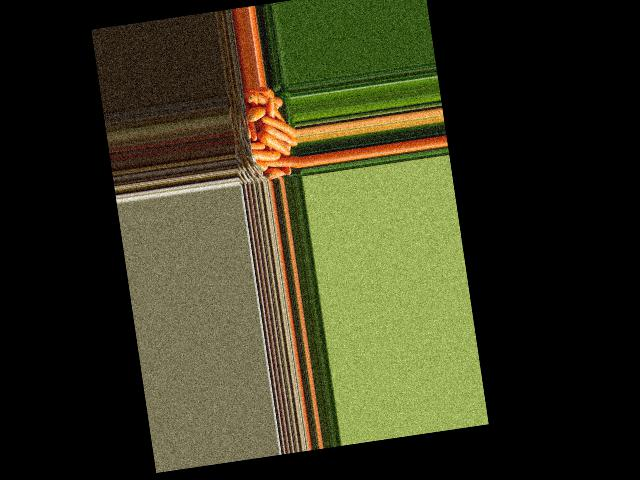carrot: (242, 91, 255, 102)
